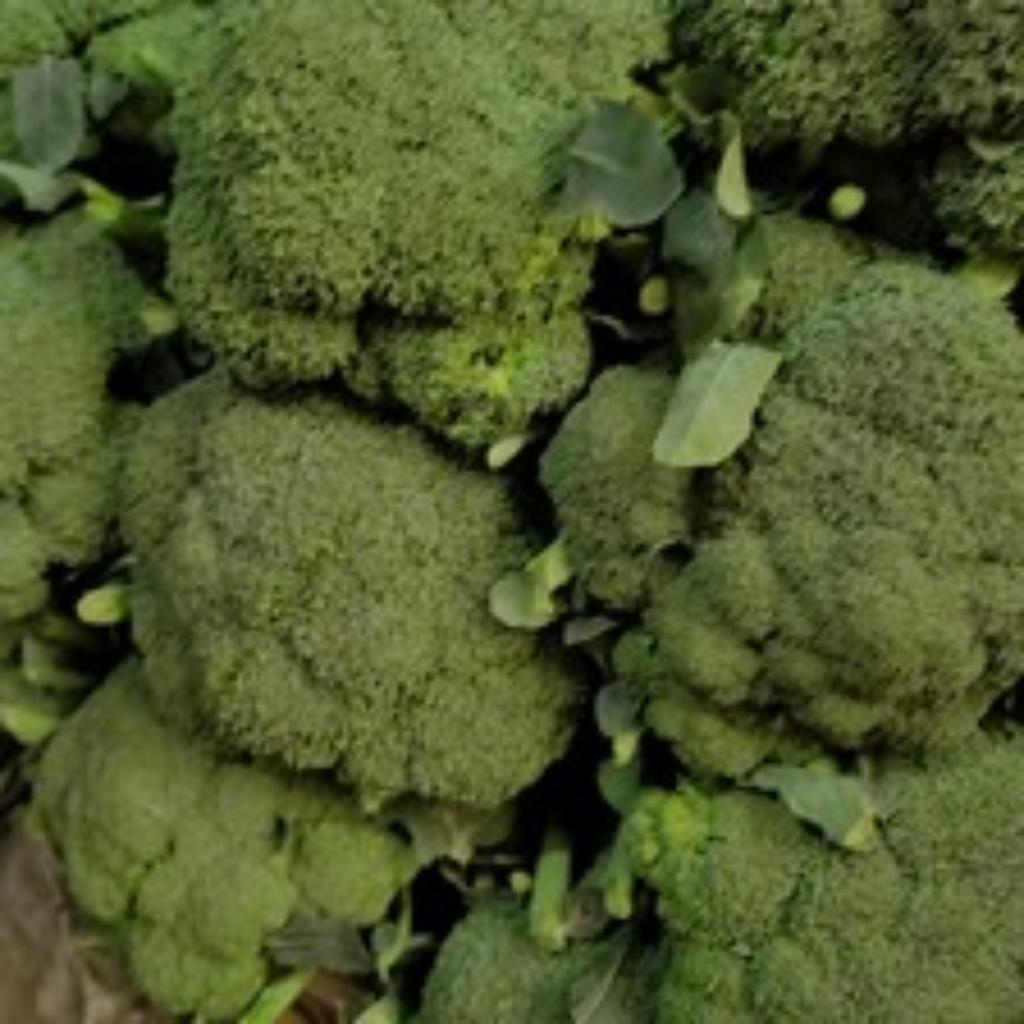Broccoli: (34, 2, 1024, 1024), (170, 4, 664, 449), (128, 372, 574, 807), (638, 262, 1024, 749), (36, 664, 410, 1021), (754, 733, 1024, 1024)
